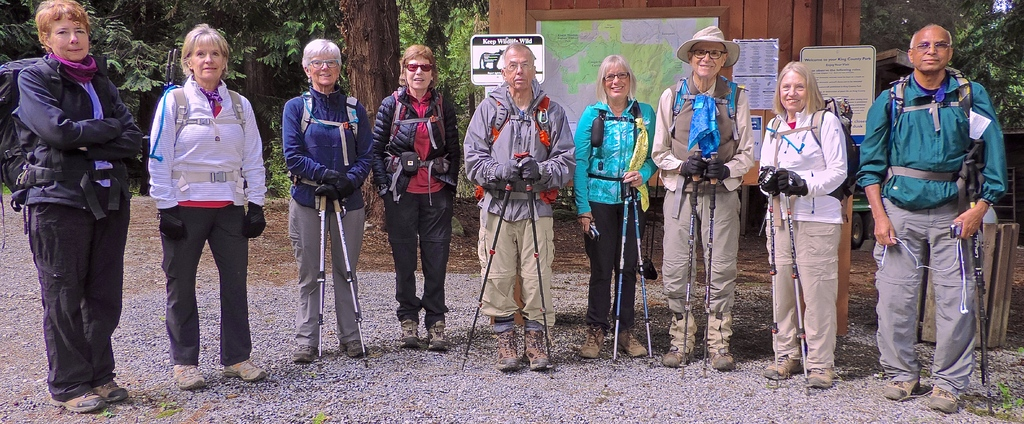Footwear: (521, 327, 550, 373), (172, 359, 207, 393), (221, 359, 265, 385), (619, 327, 650, 359), (63, 391, 104, 414), (761, 356, 800, 380), (496, 330, 519, 370), (95, 380, 129, 406), (926, 382, 955, 412), (580, 324, 602, 360), (877, 379, 917, 398), (801, 363, 831, 387), (708, 350, 735, 373), (428, 318, 447, 350), (292, 341, 316, 364), (341, 340, 370, 359), (403, 318, 420, 348), (665, 348, 686, 364)
